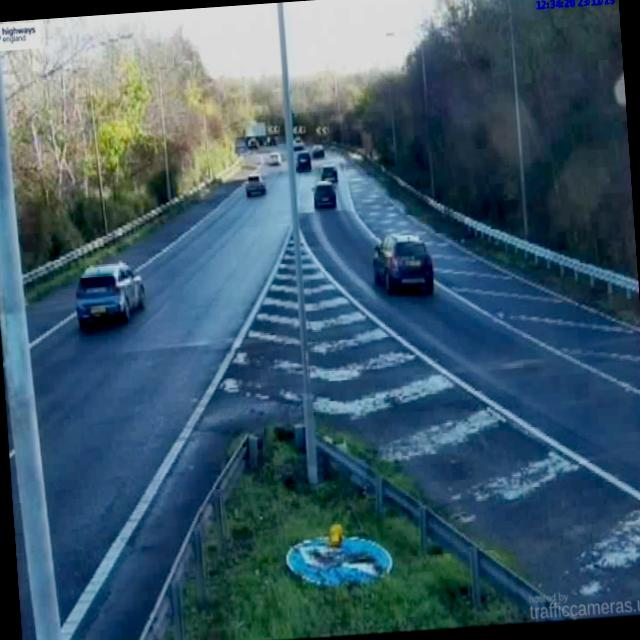foliage: (4, 18, 244, 267)
